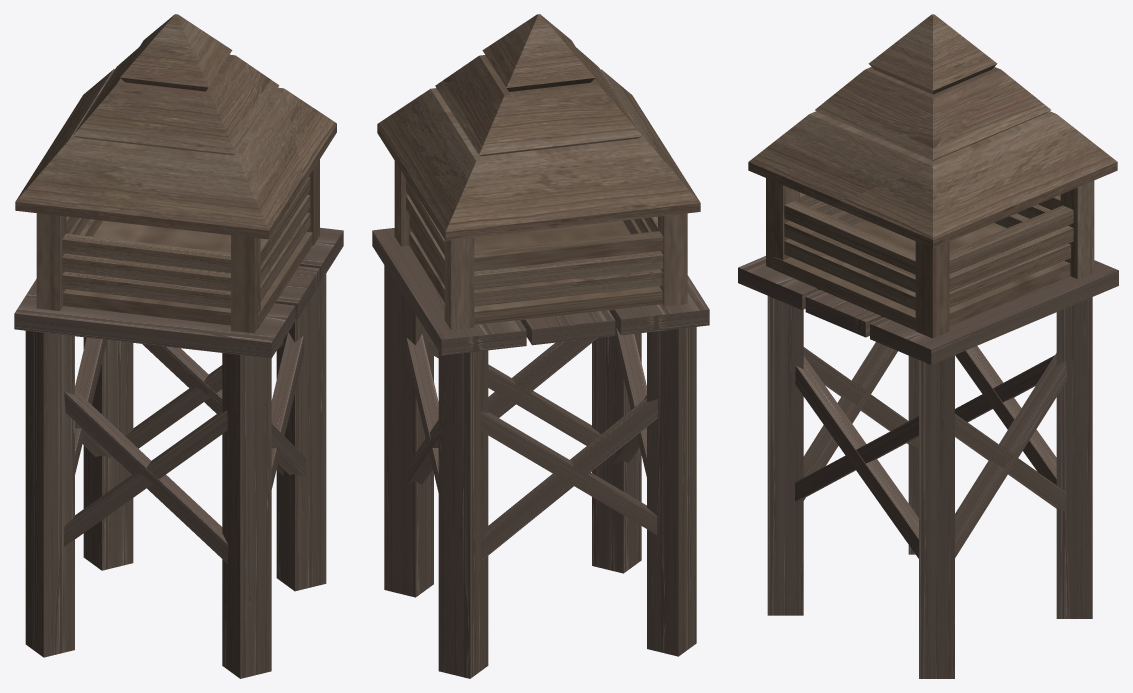
File: att_tower_uv.fbx
The picture shows the model from 3 angles, left to right: view 1: azimuth 30°, elevation 25°; view 2: azimuth 150°, elevation 25°; view 3: azimuth 270°, elevation 25°; orthographic projection.
Visible parts, largest first — view 1: polySurface8; view 2: polySurface8; view 3: polySurface8.
Part boxes in pixels (bbox=[...]): polySurface8: bbox=[14, 14, 343, 678]; polySurface8: bbox=[372, 14, 709, 678]; polySurface8: bbox=[738, 14, 1118, 678].
Bounding box in the file's own units: 15.89 × 27.35 × 15.87.
2 materials, 2 textured.
